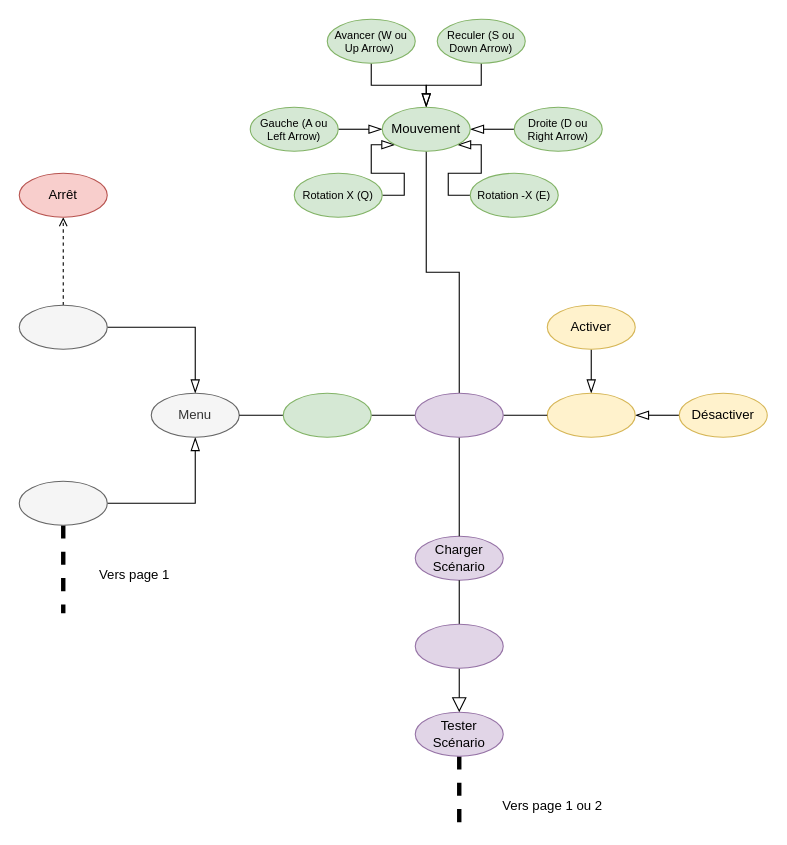
The diagram is 787 pixels wide and 845 high, and some of its shapes have lost their labels. The shapes that lost their labels are listed below. From the top down, each one's centre as x and y in pixels, then its label:
At pixel 62 326: "Quitter".
At pixel 326 414: "Appuyer Échap".
At pixel 458 414: "Début Scénario".
At pixel 590 414: "Raytracing View".
At pixel 62 502: "Menu Principlal".
At pixel 458 645: "Choix de Scénario".
